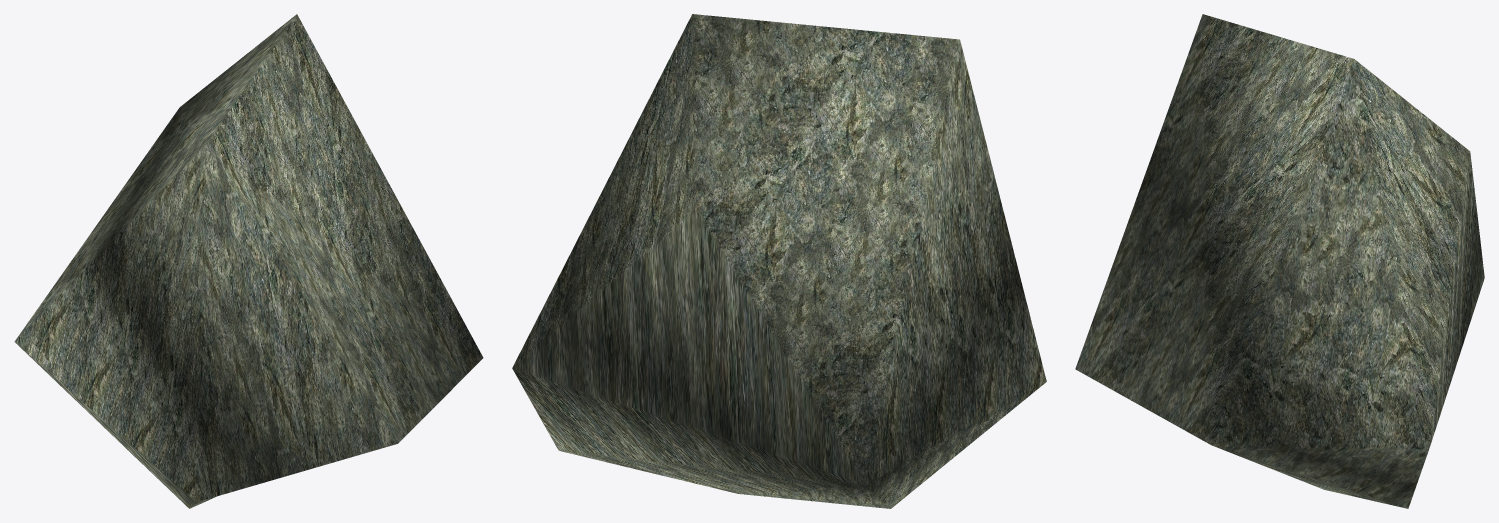
File: mtns_rock_grey_a7_l2.fbx
3 renders of one model, left to right at view 1: azimuth 30°, elevation 25°; view 2: azimuth 150°, elevation 25°; view 3: azimuth 270°, elevation 25°, orthographic. The views are drawn at different scales.
Visible parts, largest first — view 1: mesh_node; view 2: mesh_node; view 3: mesh_node.
Part boxes in pixels (<box>): mesh_node: <box>14,14,483,508</box>; mesh_node: <box>512,14,1046,508</box>; mesh_node: <box>1075,14,1484,508</box>.
Size of the model in its own units: 0.6833 by 0.8253 by 0.69.
Materials: 1 (1 with a texture image).
